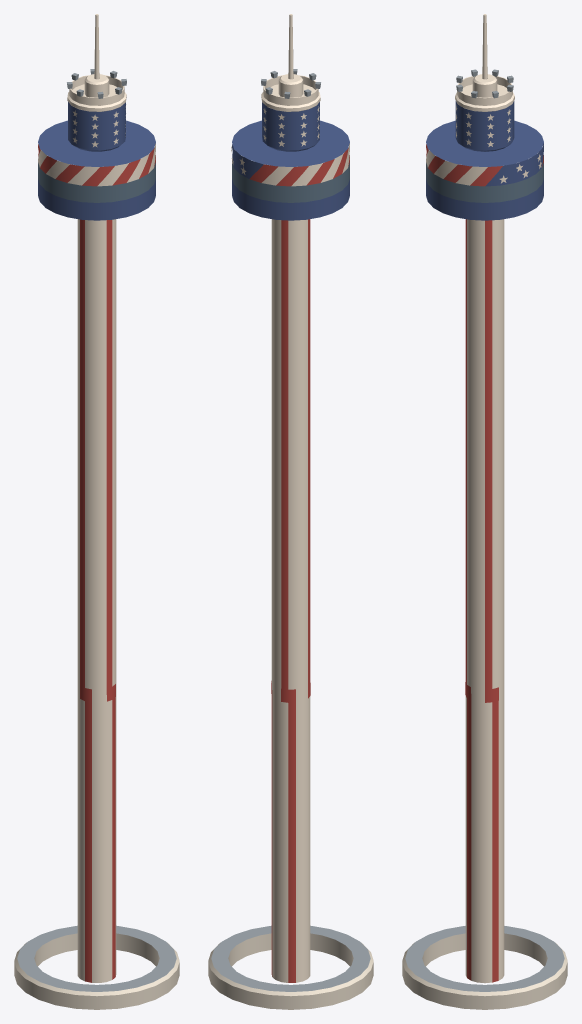
Rendered from detail.glb.
3 views of the same model, side by side, from view 1: azimuth 30°, elevation 25°; view 2: azimuth 150°, elevation 25°; view 3: azimuth 270°, elevation 25° (orthographic).
Parts seen in each view (by area): view 1: carolina-skytower-carowinds; view 2: carolina-skytower-carowinds; view 3: carolina-skytower-carowinds.
Boxes of the visible parts, x1,y1,x2,y2 form: carolina-skytower-carowinds: (14, 14, 179, 1009); carolina-skytower-carowinds: (208, 14, 373, 1009); carolina-skytower-carowinds: (402, 14, 567, 1009).
Bounding box in the file's own units: 13.6 × 87 × 13.6.
